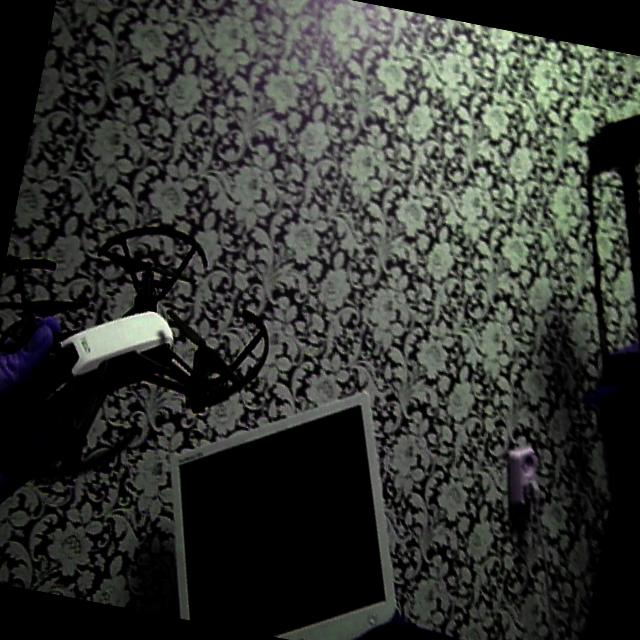drone: (0, 189, 301, 522)
